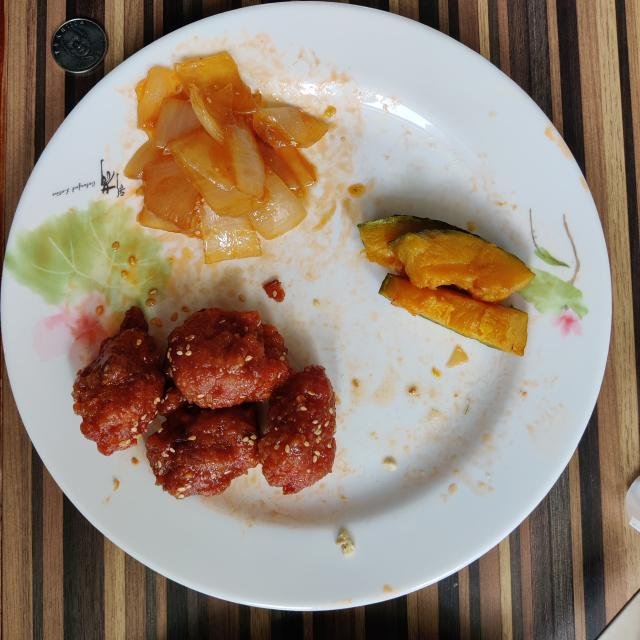coin: (51, 19, 108, 74)
pumpkin: (358, 215, 534, 355)
